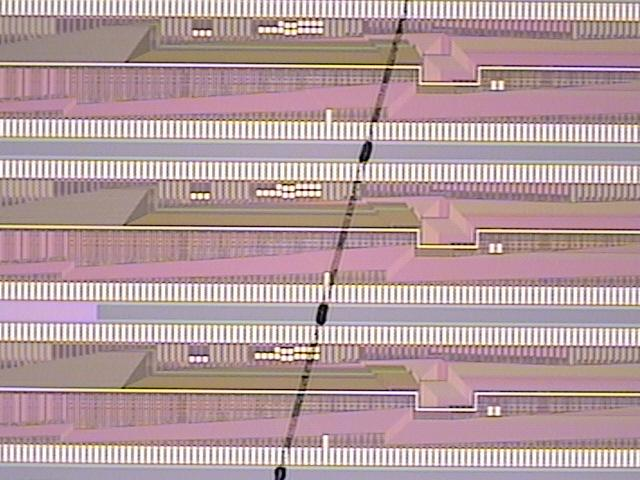SCRATCH: (270, 1, 417, 480)
